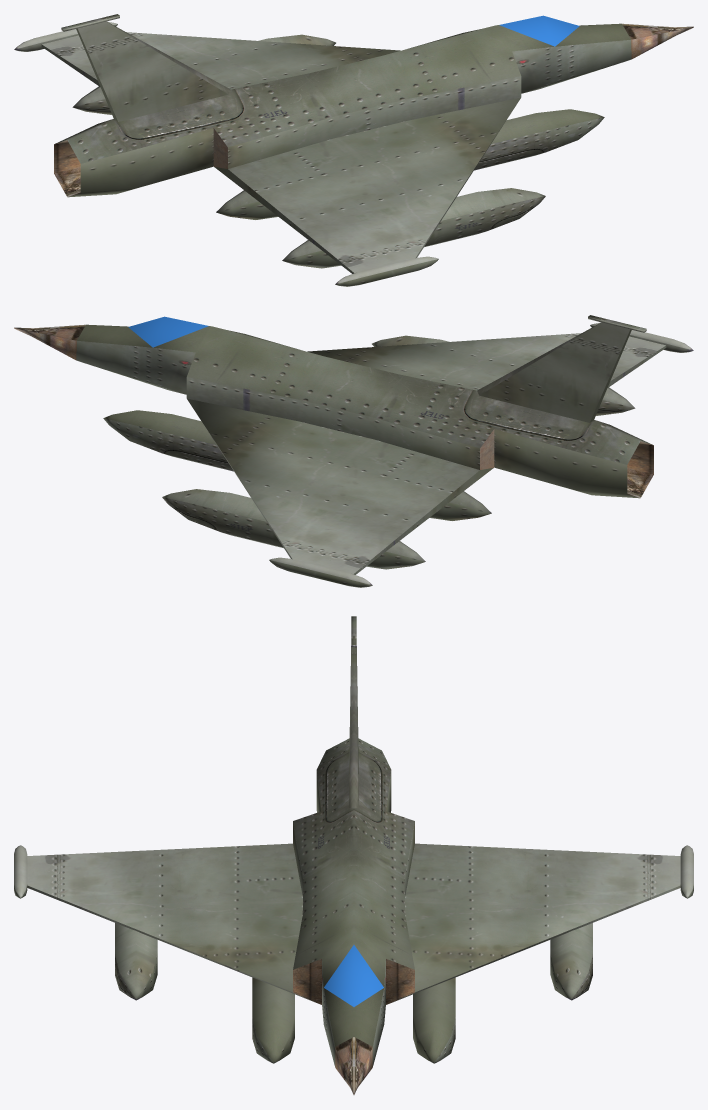
Rendered from Mirage 2000.FBX.
The picture shows the model from 3 angles, top to bottom: view 1: azimuth 30°, elevation 25°; view 2: azimuth 150°, elevation 25°; view 3: azimuth 270°, elevation 25°; orthographic projection. The views are drawn at different scales.
Visible parts, largest first — view 1: mirage 2000; view 2: mirage 2000; view 3: mirage 2000.
Boxes of the visible parts, x1,y1,x2,y2 form: mirage 2000: (14, 14, 693, 286); mirage 2000: (14, 315, 693, 587); mirage 2000: (14, 616, 693, 1094).
Bounding box in the file's own units: 987 × 306 × 886.
